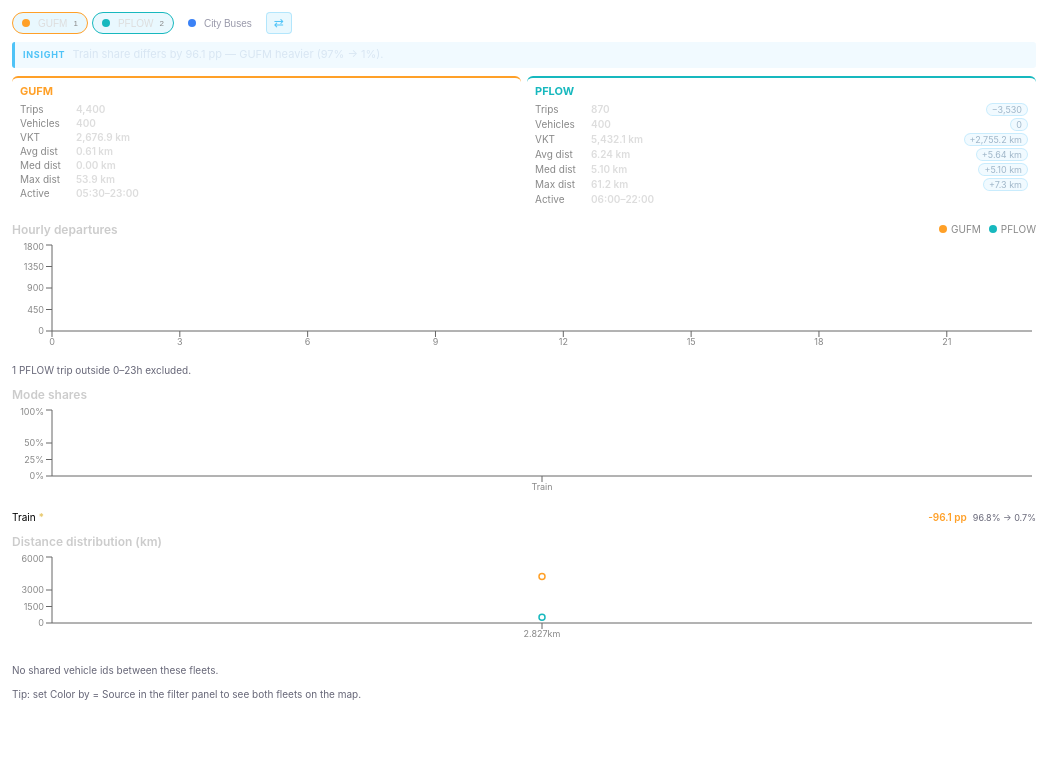
CompareTab › chips toggle a third fleet into the multi view
The width and height of the screenshot is (1048, 780).
Expected: the text "4,400" is shown, [76,103,105,115]
Click the button "City Buses" at [220, 23], box [178,12,262,34]
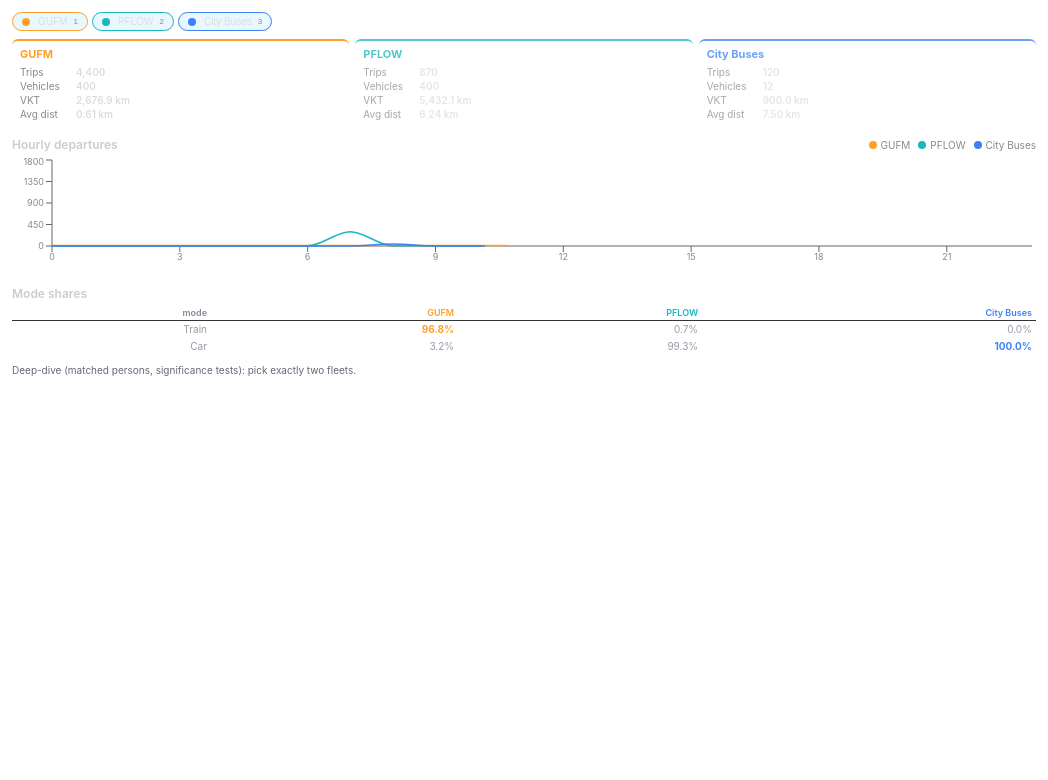
Expected: the column heading "City Buses" is shown, [702,305,1036,320]
